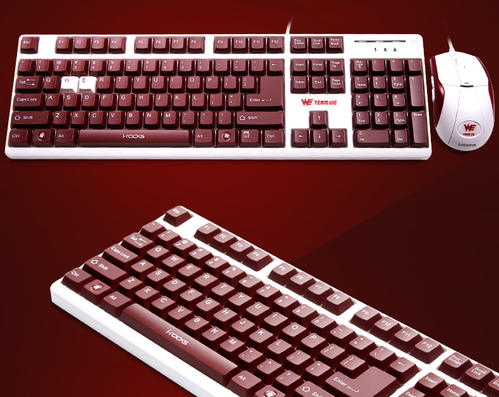keyboard: (49, 204, 498, 395), (6, 33, 433, 161)
mouse: (427, 51, 495, 151)
